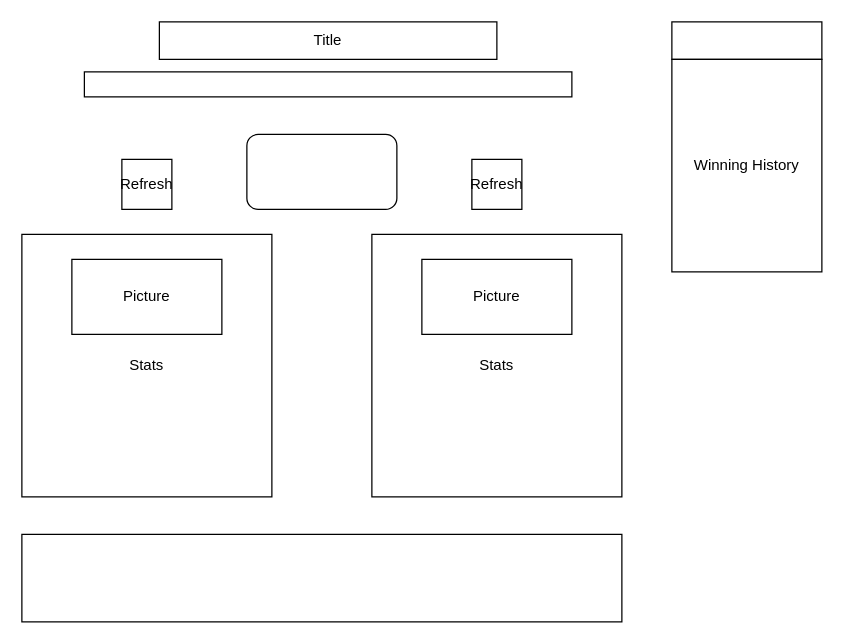
This 844x644 diagram has some shape labels left out. Each missing label, with the box of its shape:
BATTLE!!!: (246, 133, 397, 209)
Log of events: (21, 533, 622, 622)
Menu: (671, 21, 822, 59)
Subtitle: (83, 71, 572, 97)
